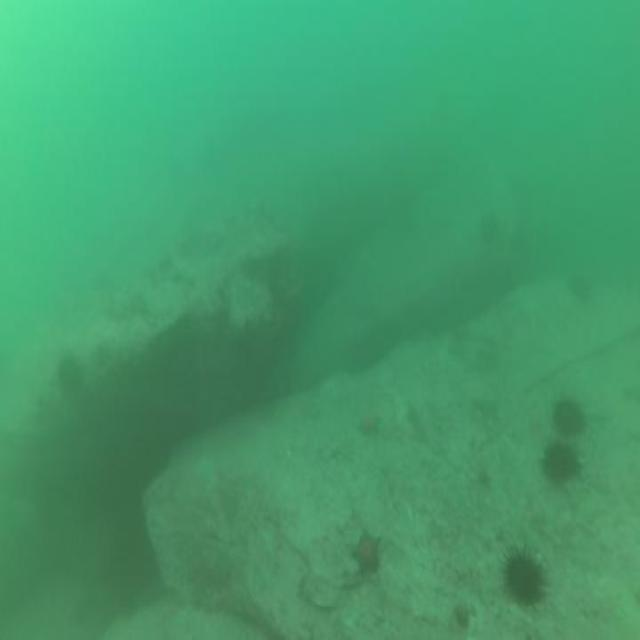echinus: (500, 539, 550, 608), (539, 436, 584, 490), (550, 394, 588, 444), (55, 348, 86, 403), (478, 209, 502, 251)
starfish: (348, 525, 386, 583), (355, 404, 383, 441)
